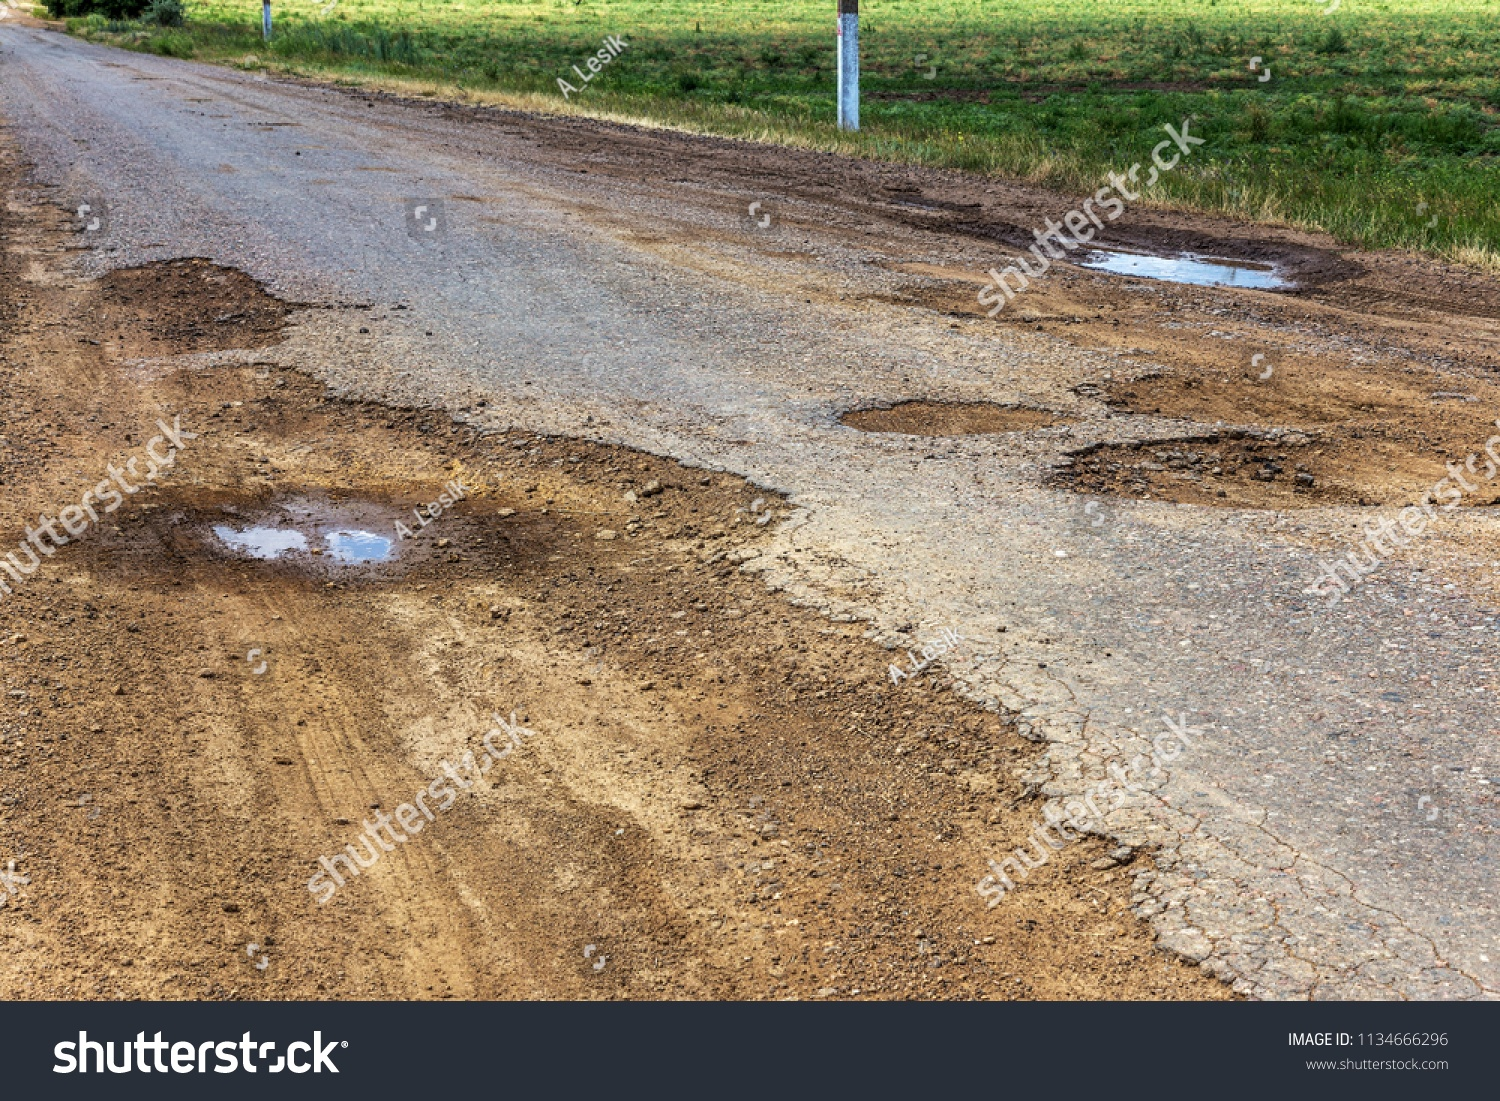pothole: (126, 398, 604, 696), (1004, 377, 1452, 652), (847, 259, 1179, 508)
